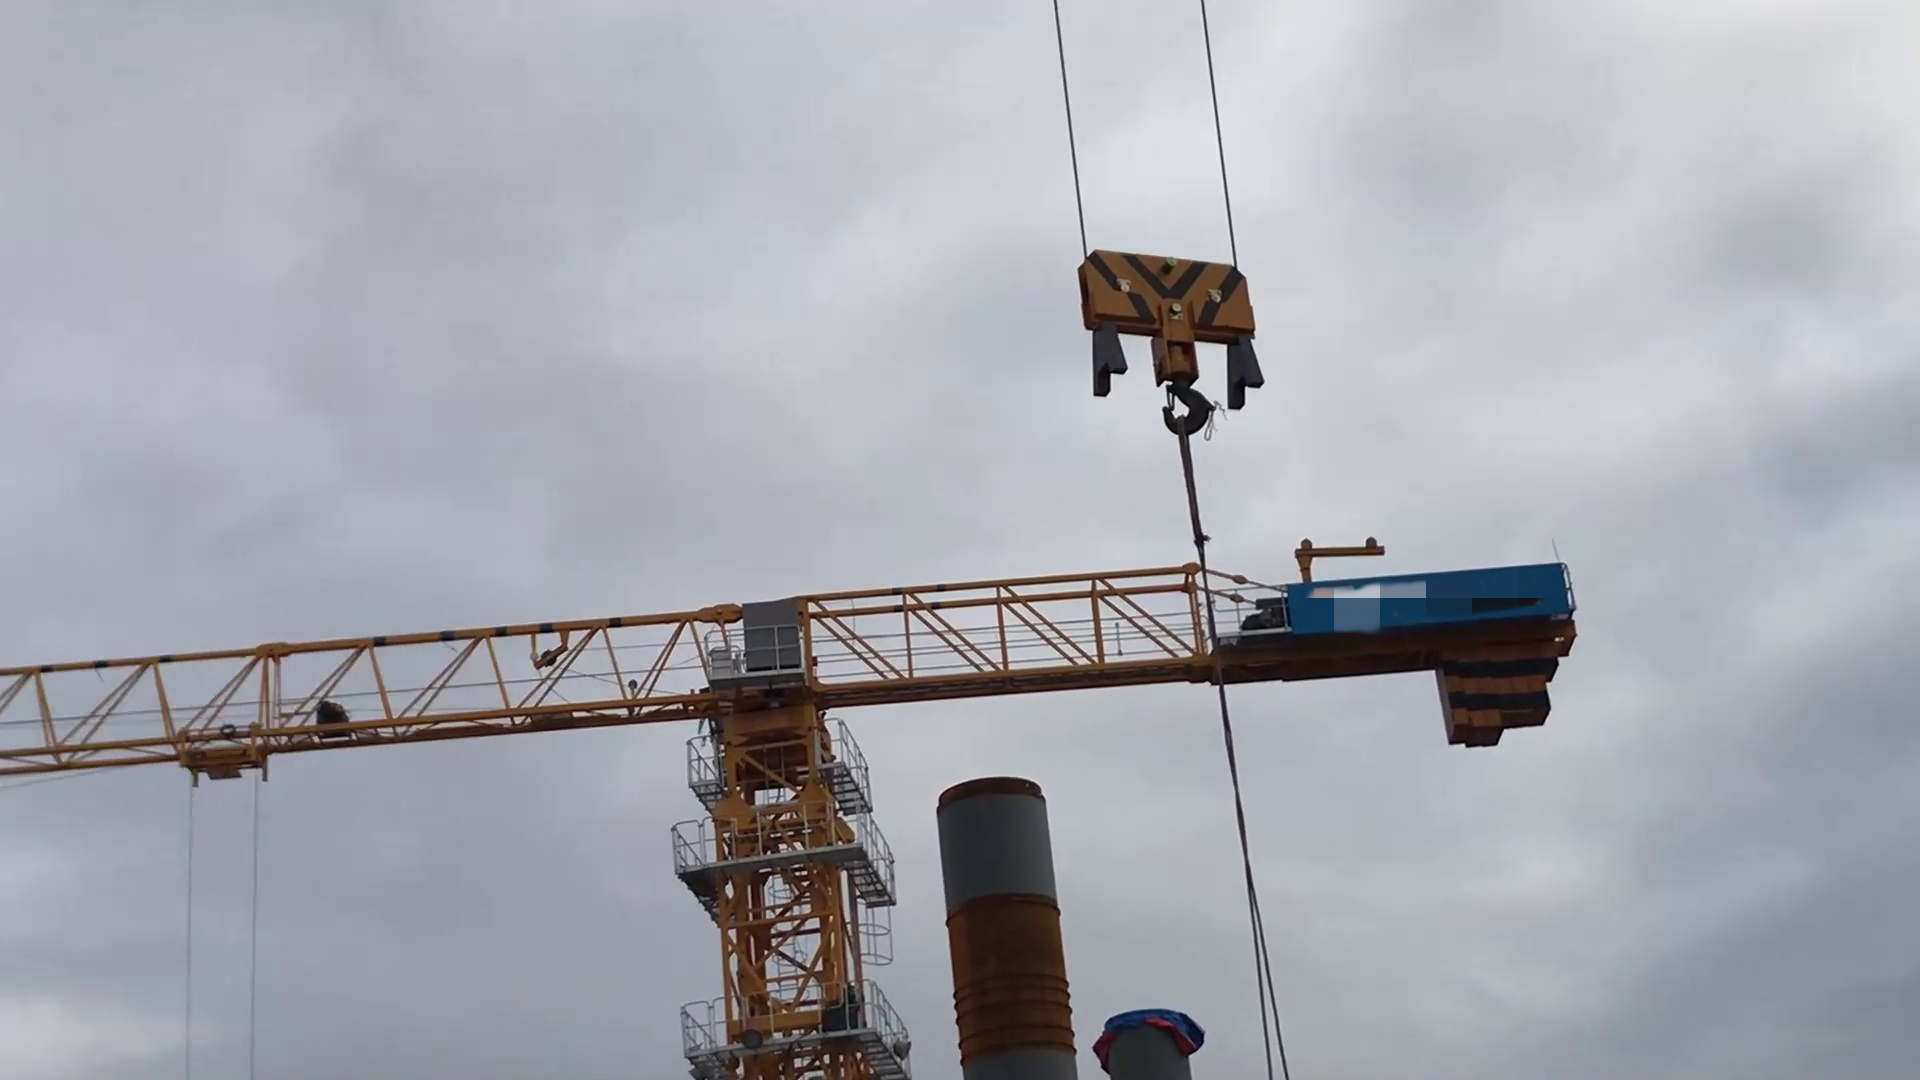hook: (1063, 237, 1276, 450)
